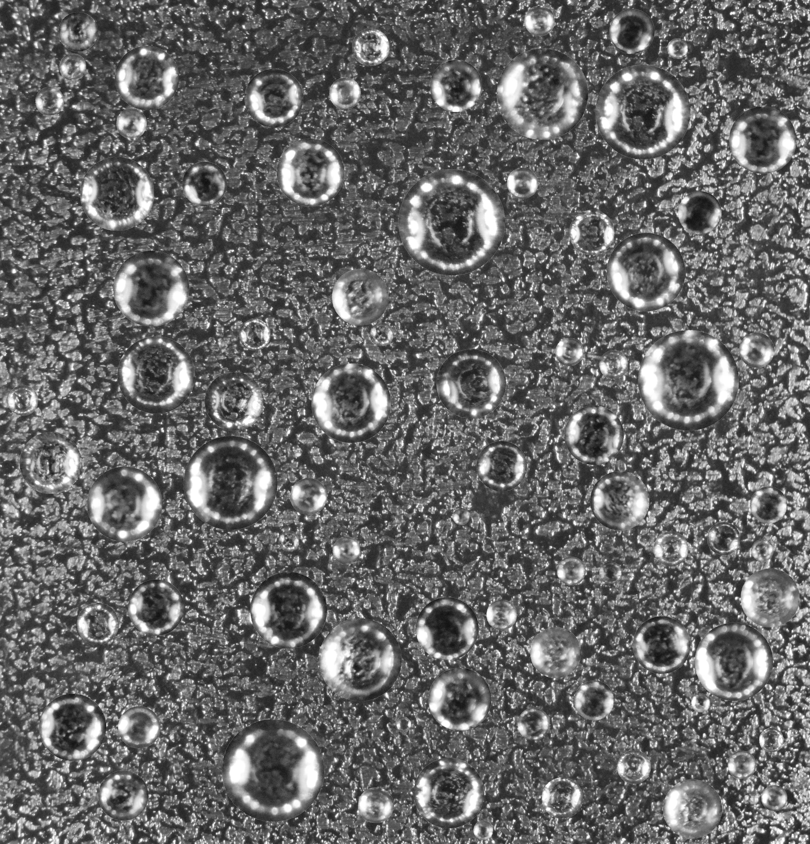Bubble: (398, 169, 504, 275), (221, 719, 324, 821), (638, 330, 738, 430), (595, 64, 690, 159), (183, 436, 277, 529), (496, 48, 588, 139), (319, 618, 401, 701), (311, 363, 390, 442), (606, 232, 685, 311), (695, 622, 773, 700), (117, 336, 194, 413), (113, 250, 189, 326), (250, 572, 326, 648), (87, 466, 162, 541), (80, 156, 153, 230), (413, 758, 484, 828), (436, 349, 505, 418), (276, 138, 344, 206), (39, 693, 106, 760), (729, 106, 796, 173), (114, 45, 178, 109), (415, 597, 478, 660), (428, 667, 491, 730), (19, 432, 81, 493), (244, 68, 303, 127), (740, 568, 799, 627), (564, 405, 623, 464), (590, 471, 649, 530), (663, 779, 722, 838), (204, 372, 263, 430), (633, 616, 690, 673), (332, 268, 388, 325), (128, 579, 184, 635), (430, 59, 482, 111), (530, 627, 581, 678), (98, 770, 148, 820), (476, 441, 526, 491), (569, 209, 614, 254), (609, 8, 654, 53), (182, 161, 226, 206), (678, 191, 721, 234), (118, 706, 160, 748), (76, 603, 118, 644), (541, 777, 582, 818), (574, 680, 614, 720), (58, 12, 97, 51), (750, 486, 787, 523), (352, 28, 389, 65), (290, 478, 326, 514), (358, 787, 393, 823), (739, 332, 774, 367), (653, 531, 688, 566), (617, 750, 650, 783), (707, 522, 740, 555), (517, 708, 549, 740), (329, 77, 360, 109), (239, 319, 270, 350), (507, 167, 538, 198), (486, 599, 516, 630), (7, 385, 37, 415), (524, 5, 554, 35), (116, 108, 146, 138), (599, 350, 628, 379), (727, 750, 756, 779), (557, 556, 585, 585), (35, 86, 63, 115), (332, 536, 360, 564), (555, 338, 583, 365), (59, 53, 86, 80), (761, 785, 787, 811), (759, 728, 783, 752), (369, 322, 393, 346), (599, 561, 621, 584), (751, 539, 773, 561), (278, 530, 299, 551), (473, 820, 493, 840), (667, 38, 687, 58), (691, 693, 710, 712), (452, 508, 469, 524), (395, 716, 410, 732)
